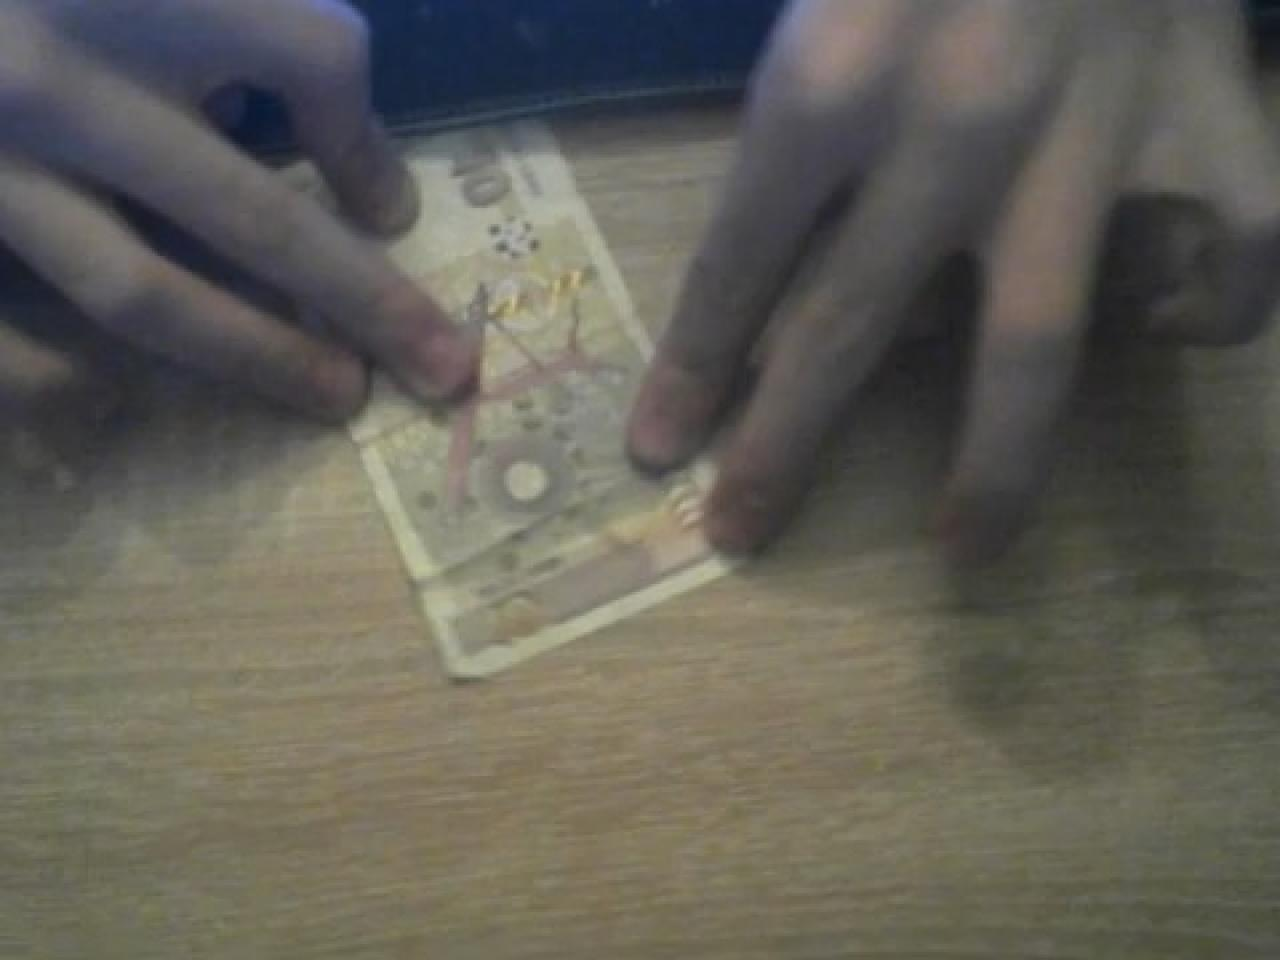10leva: (350, 117, 731, 683)
